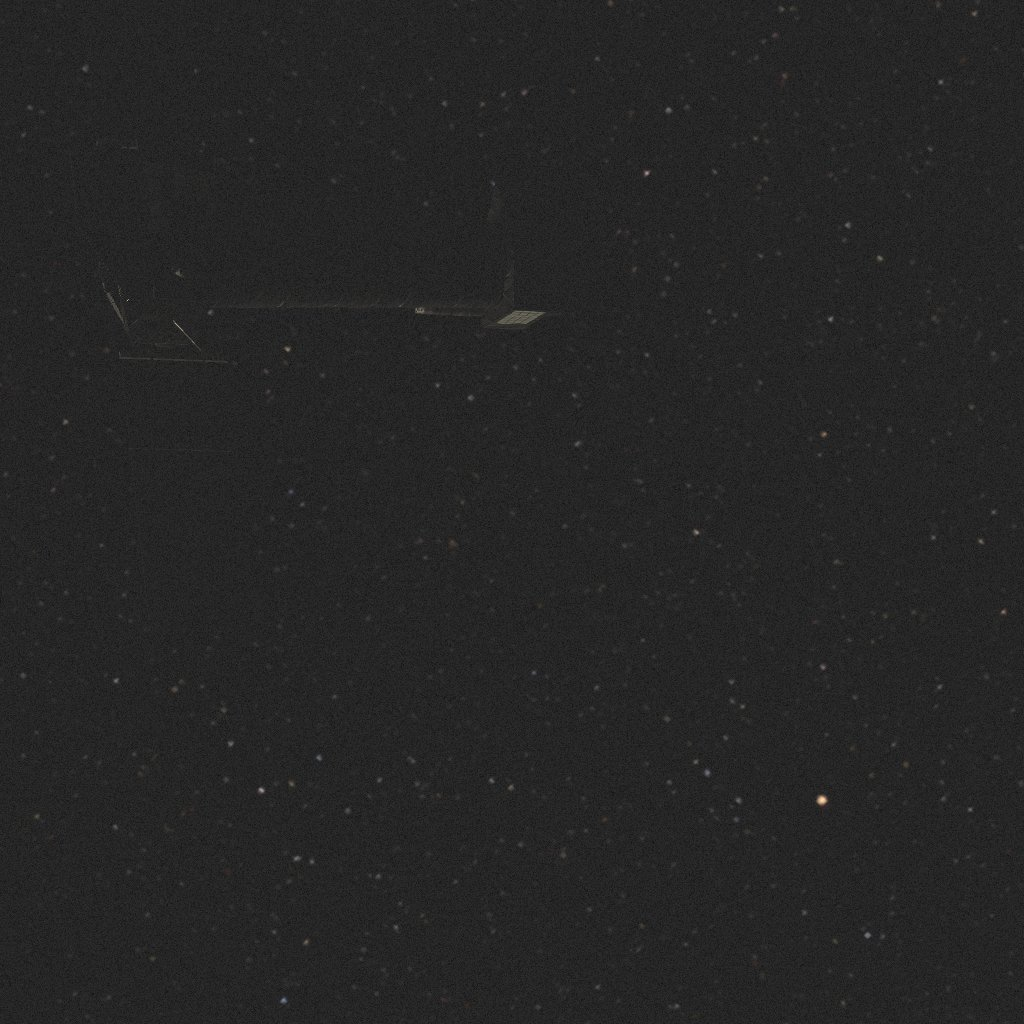xmm_newton: (69, 0, 613, 637)
